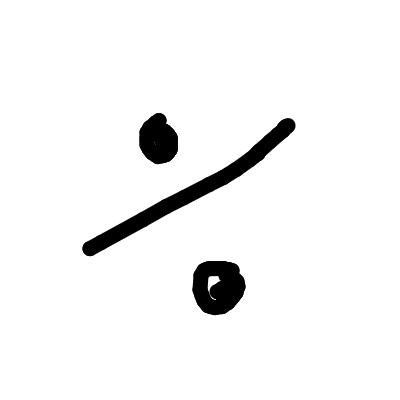div: (82, 110, 301, 317)
